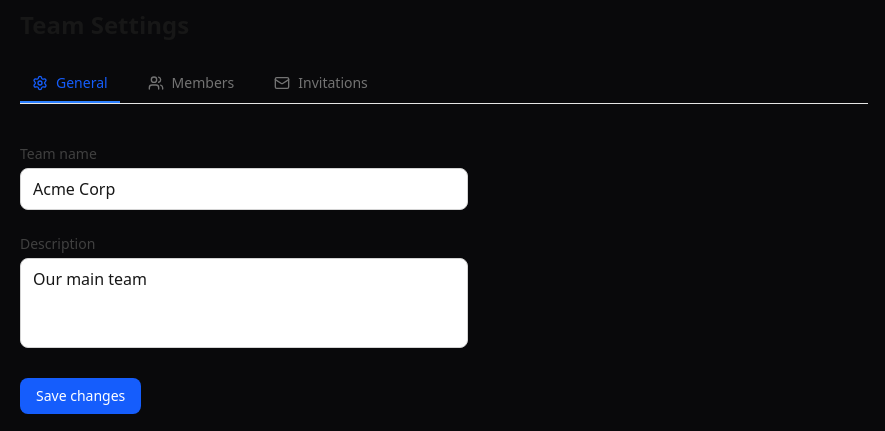
Test: TeamSettingsPage › General Tab › should show success message after saving
Replace the text in the field labelled "Team name" with "Updated Corp": (244, 189) x1=20 y1=168 x2=468 y2=210
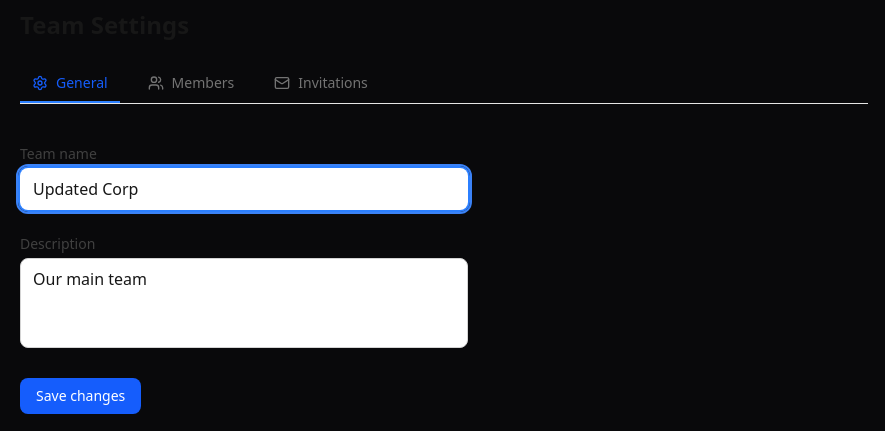
Click the button "Save changes": (81, 396) x1=20 y1=378 x2=141 y2=414
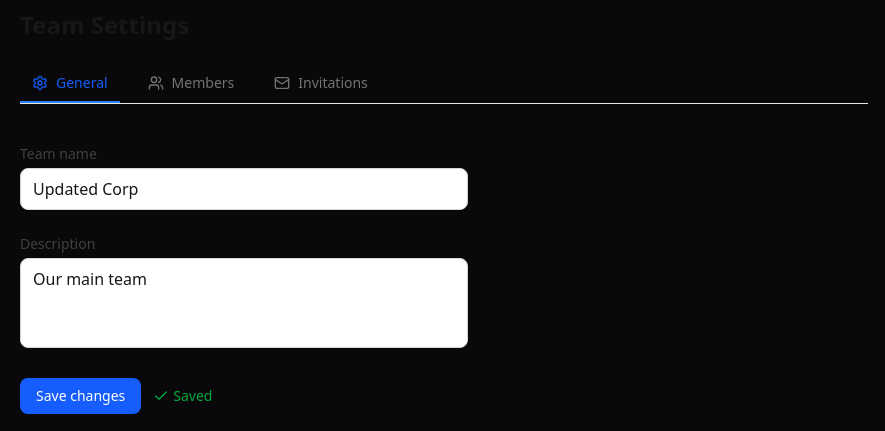
expect the text "Saved" is shown: met, box x1=153 y1=386 x2=212 y2=406
